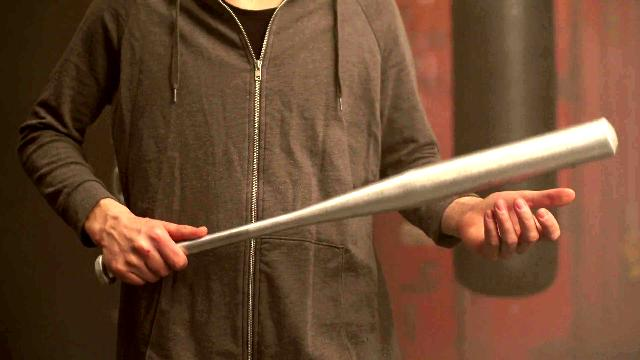baseball bat: (91, 118, 621, 280)
